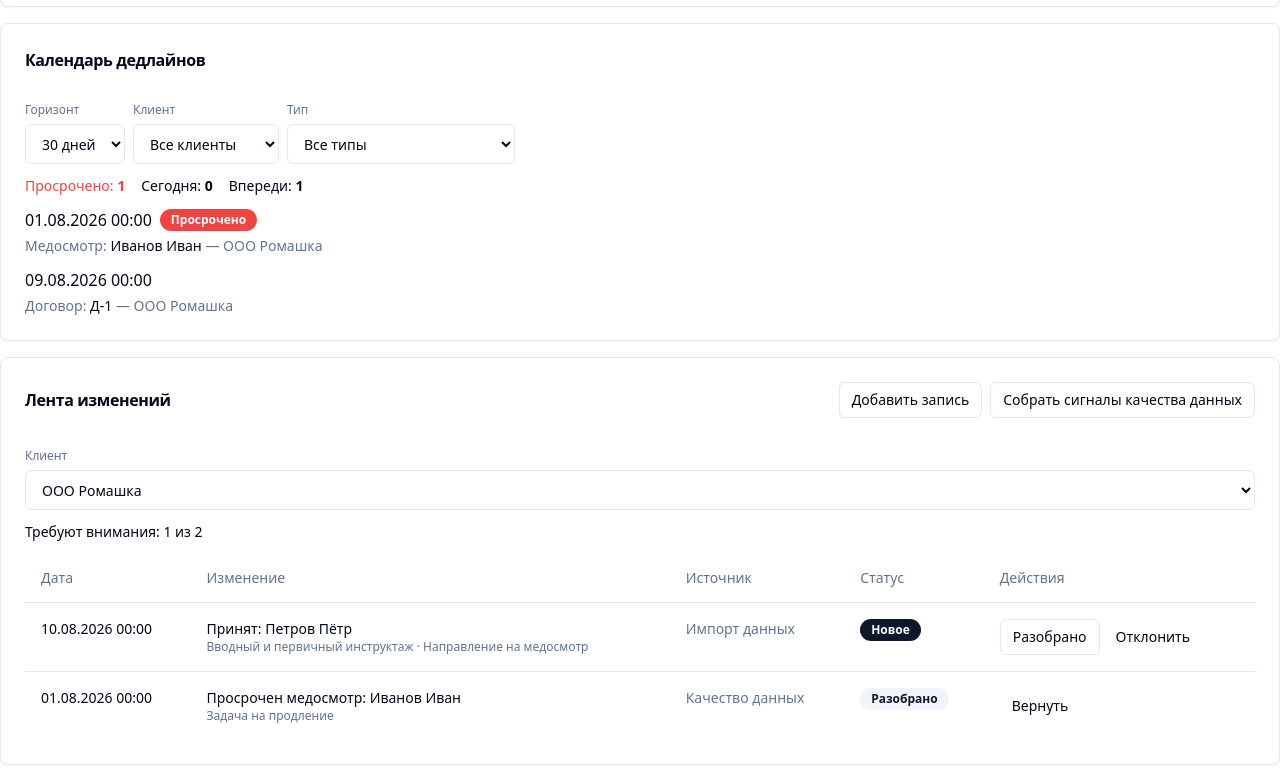
Scenario: Ручная запись в ленту (BIZ-51 срез-8) › запись уходит на сервер с видом, датой и текстом, лента перечитывается
The image size is (1280, 768).
(page scrolled)
Expected: the table with test id "feed-table" is shown, [25,554,1255,740]
Step 1. Click the button with test id "add-change-button" → (910, 400), box [839,382,982,418]
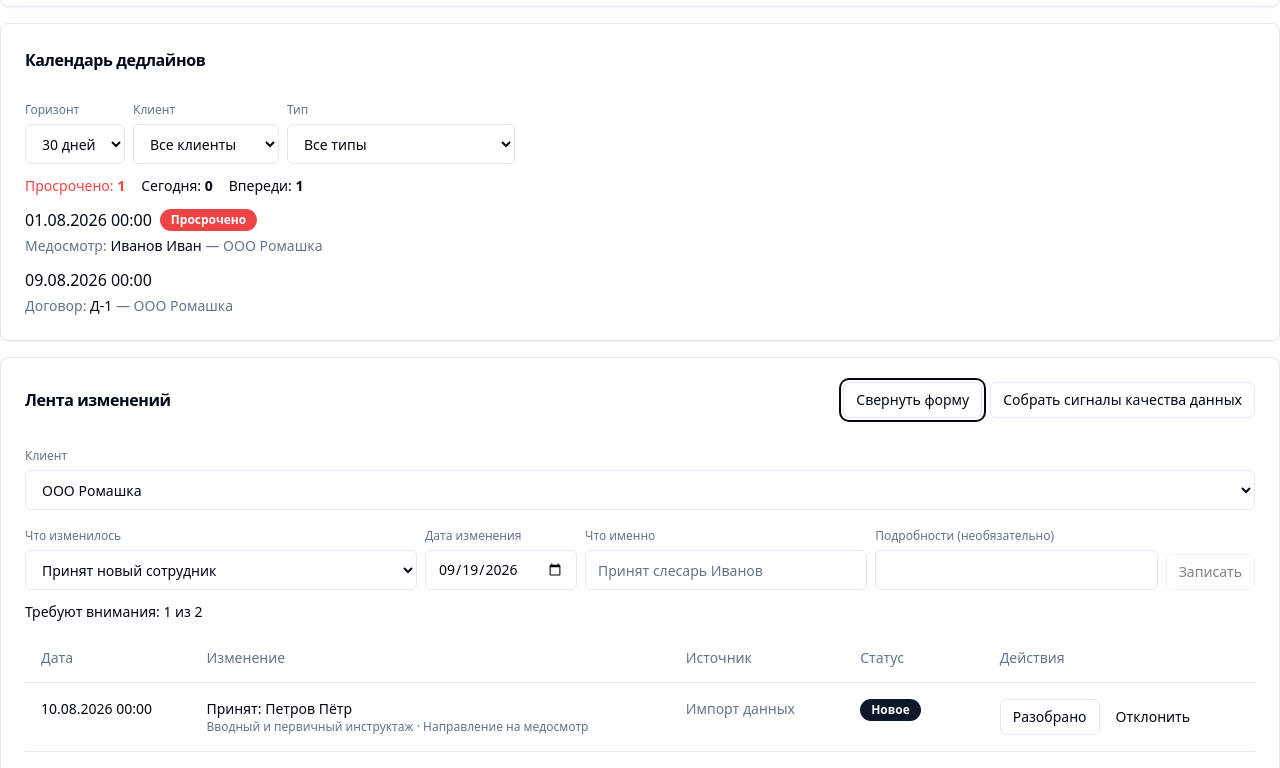
Step 2. Select "Новый объект или площадка" in the dropdown labelled "Что изменилось" → (221, 570), box [25,550,417,590]
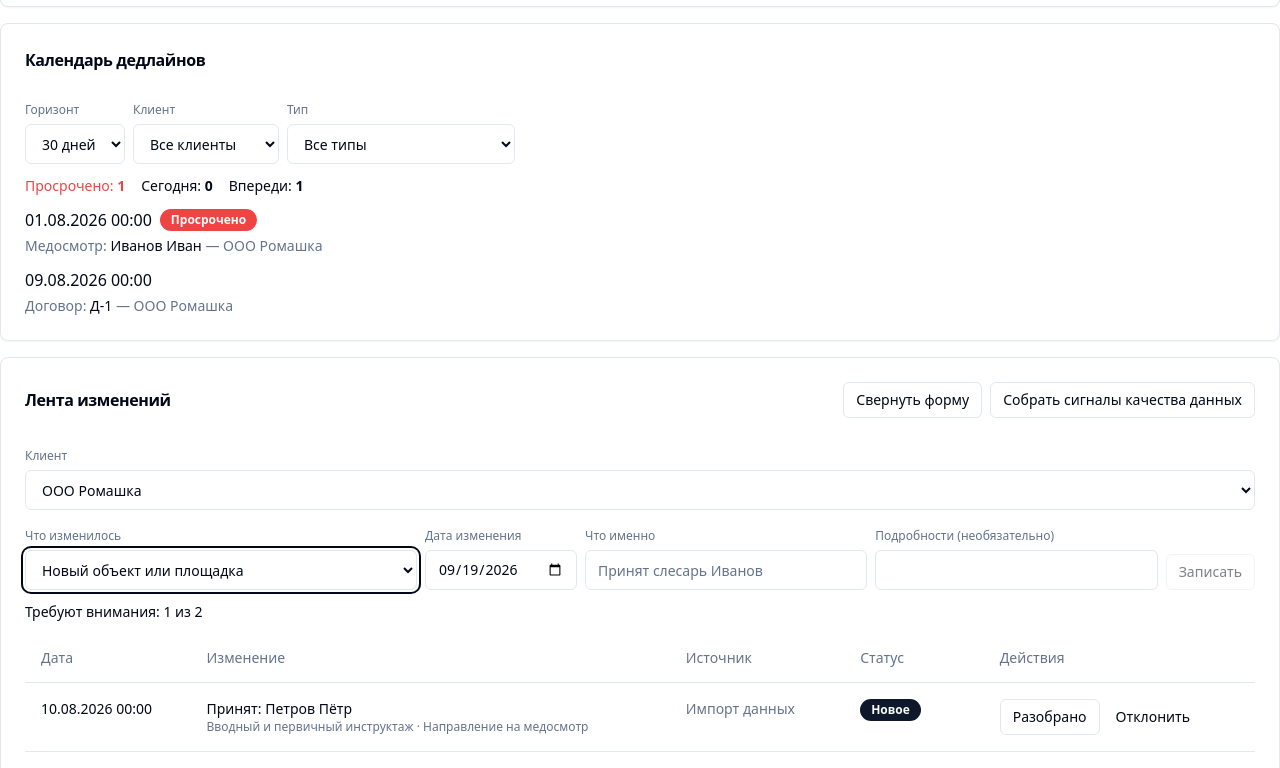
Step 3. Type "Новый цех в Твери" into the field labelled "Что именно" → (726, 570), box [585,550,867,590]
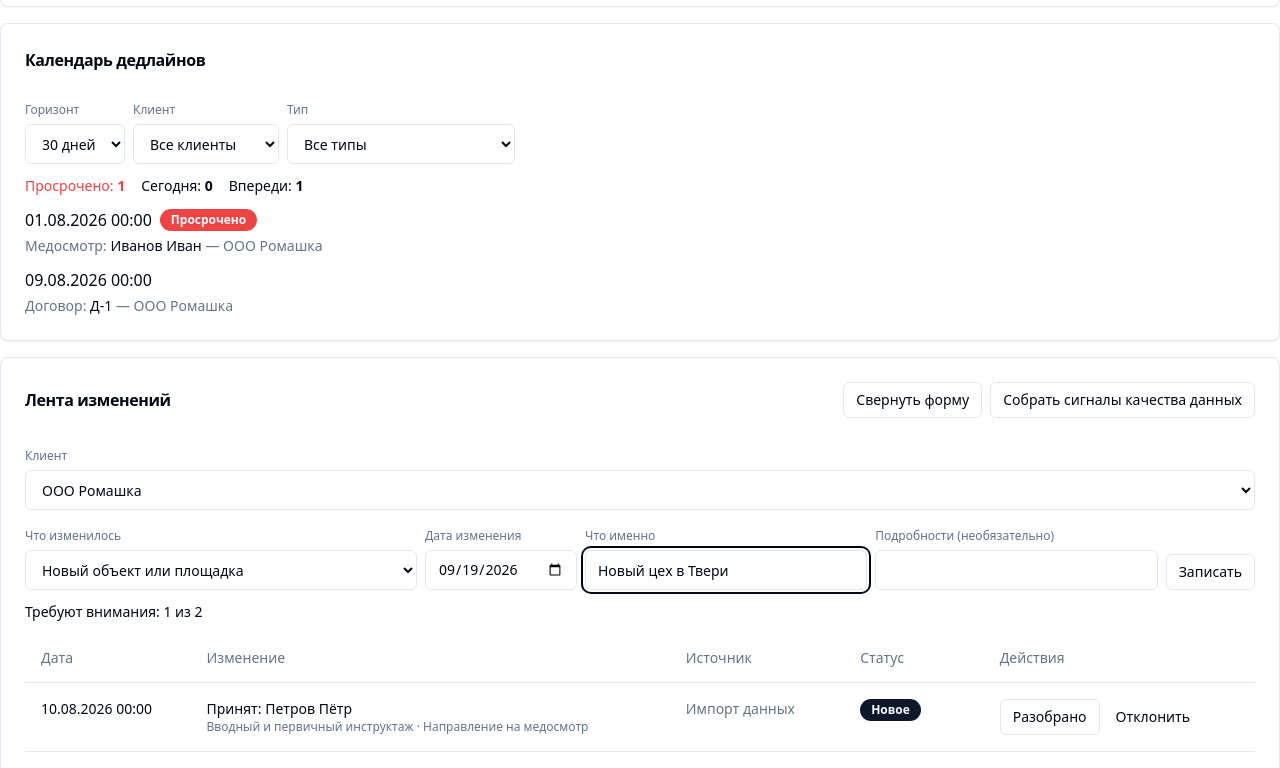
Step 4. Click the button "Записать" → (1210, 572), box [1166,554,1255,590]
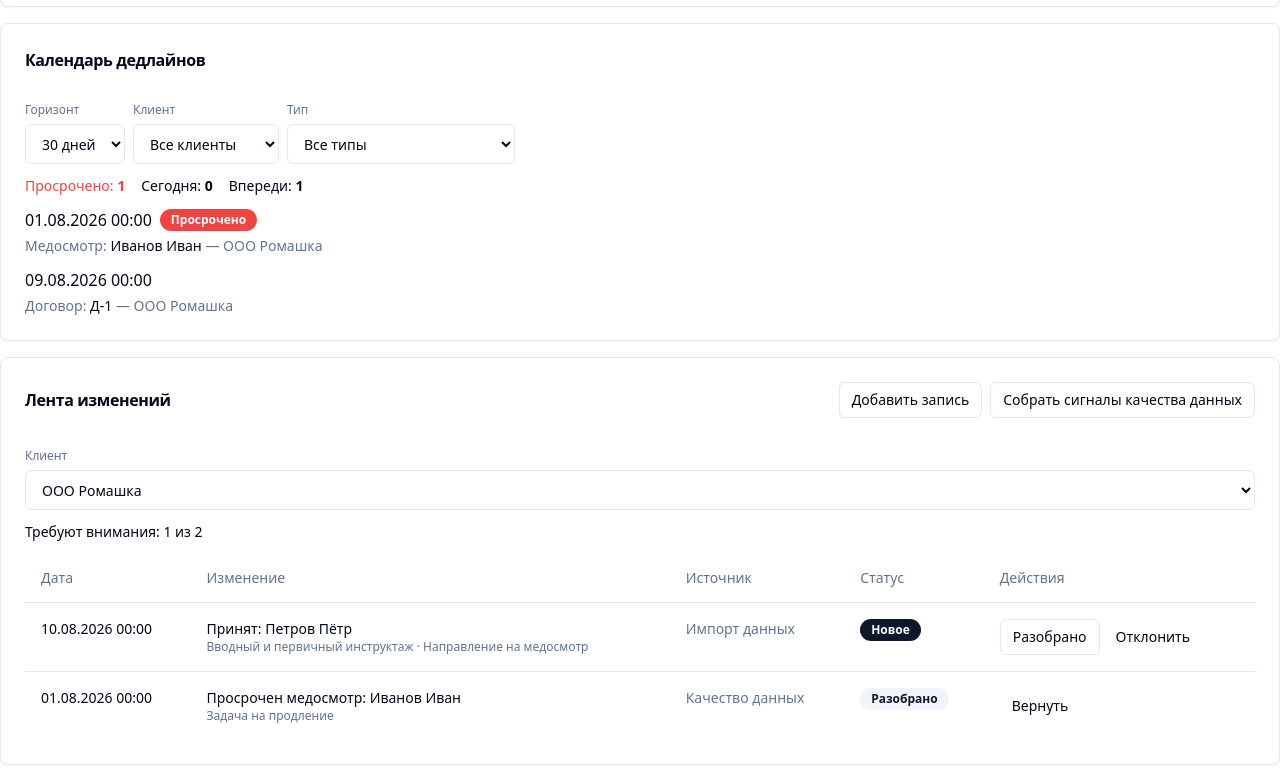
Expected: the form with test id "add-change-form" is gone
